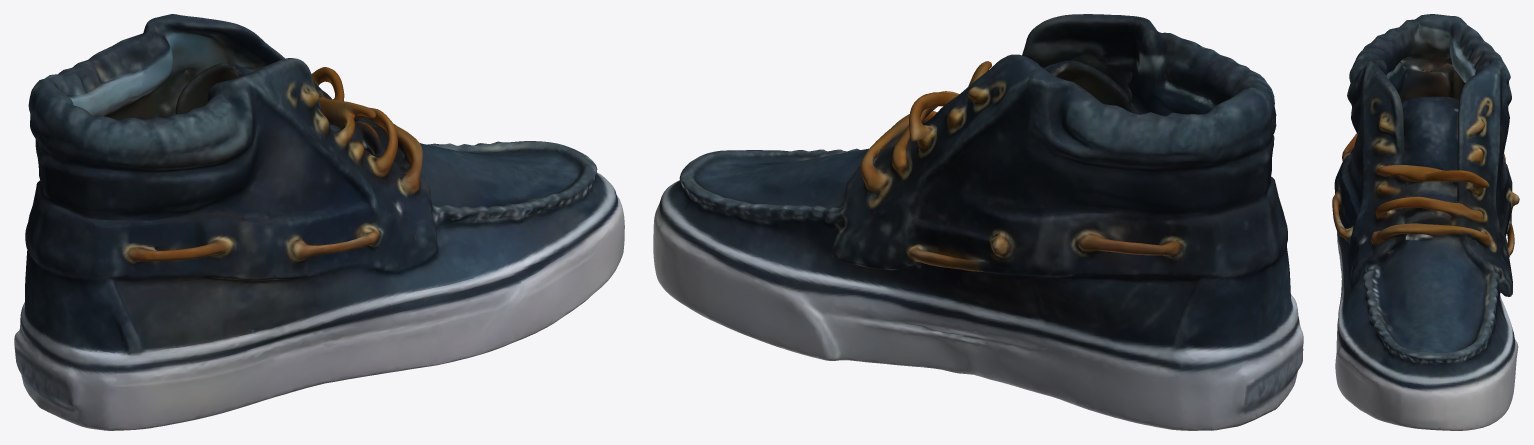
Rendered from Womens_Betty_Chukka_Boot_in_Navy_aEE8OqvMII4.glb.
3 views of the same model, side by side, from view 1: azimuth 30°, elevation 25°; view 2: azimuth 150°, elevation 25°; view 3: azimuth 270°, elevation 25° (orthographic). The views are drawn at different scales.
Visible parts, largest first — view 1: geometry_0; view 2: geometry_0; view 3: geometry_0.
Boxes of the visible parts, <box> form: geometry_0: <box>14,14,624,430</box>; geometry_0: <box>653,14,1303,430</box>; geometry_0: <box>1332,14,1519,430</box>.
Size of the model in its own units: 1 by 0.523 by 0.37.
1 material, 1 textured.
